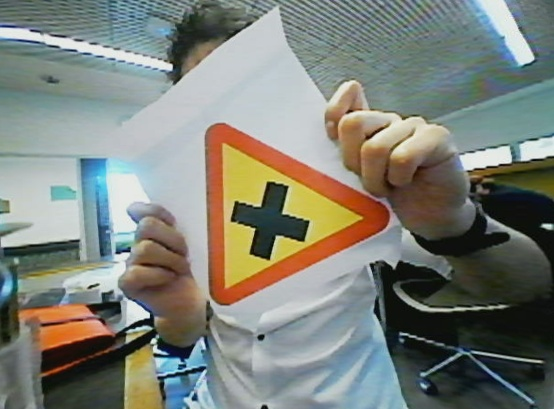junction: (195, 118, 399, 305)
